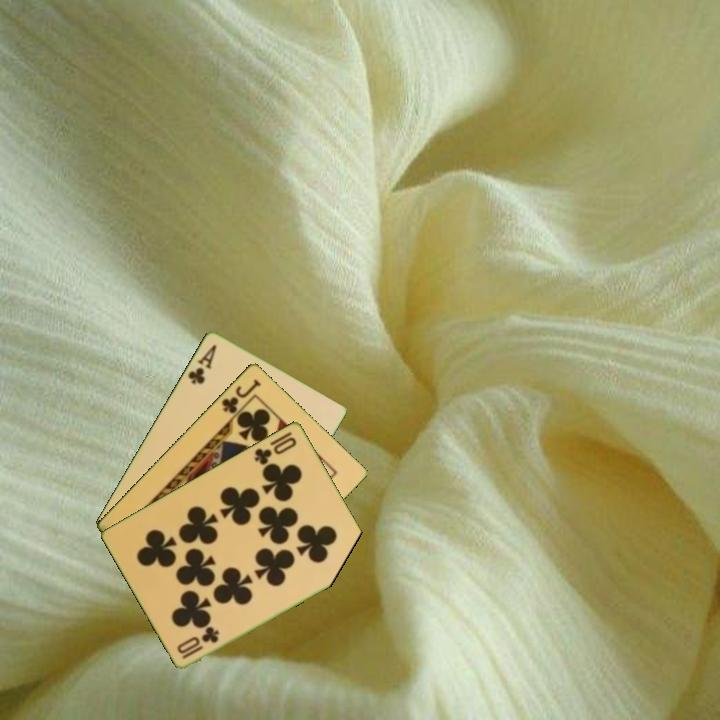10c: (251, 433, 300, 467), (179, 624, 222, 662)
Ac: (184, 340, 220, 387)
Jc: (218, 375, 264, 416)
